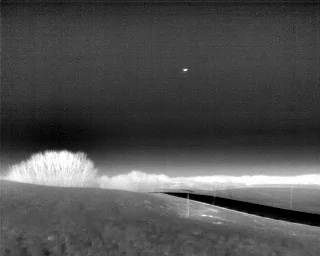AIRPLANE: (181, 66, 190, 74)
